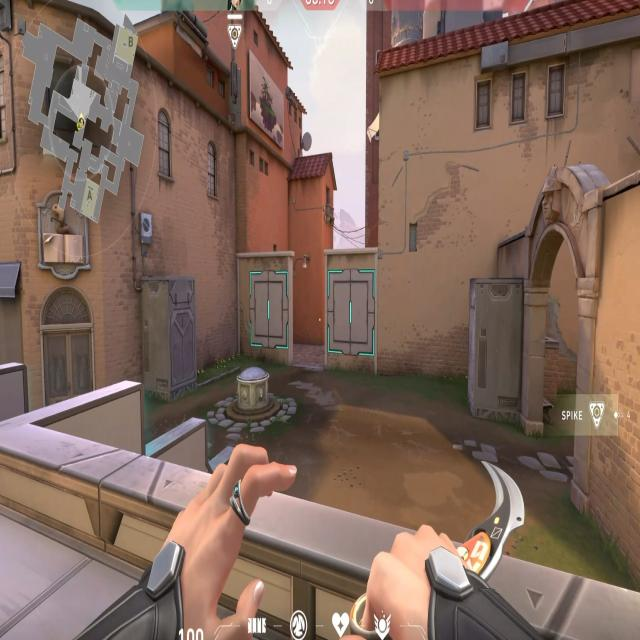Mid_Wall: (323, 250, 383, 376), (234, 248, 297, 362)
